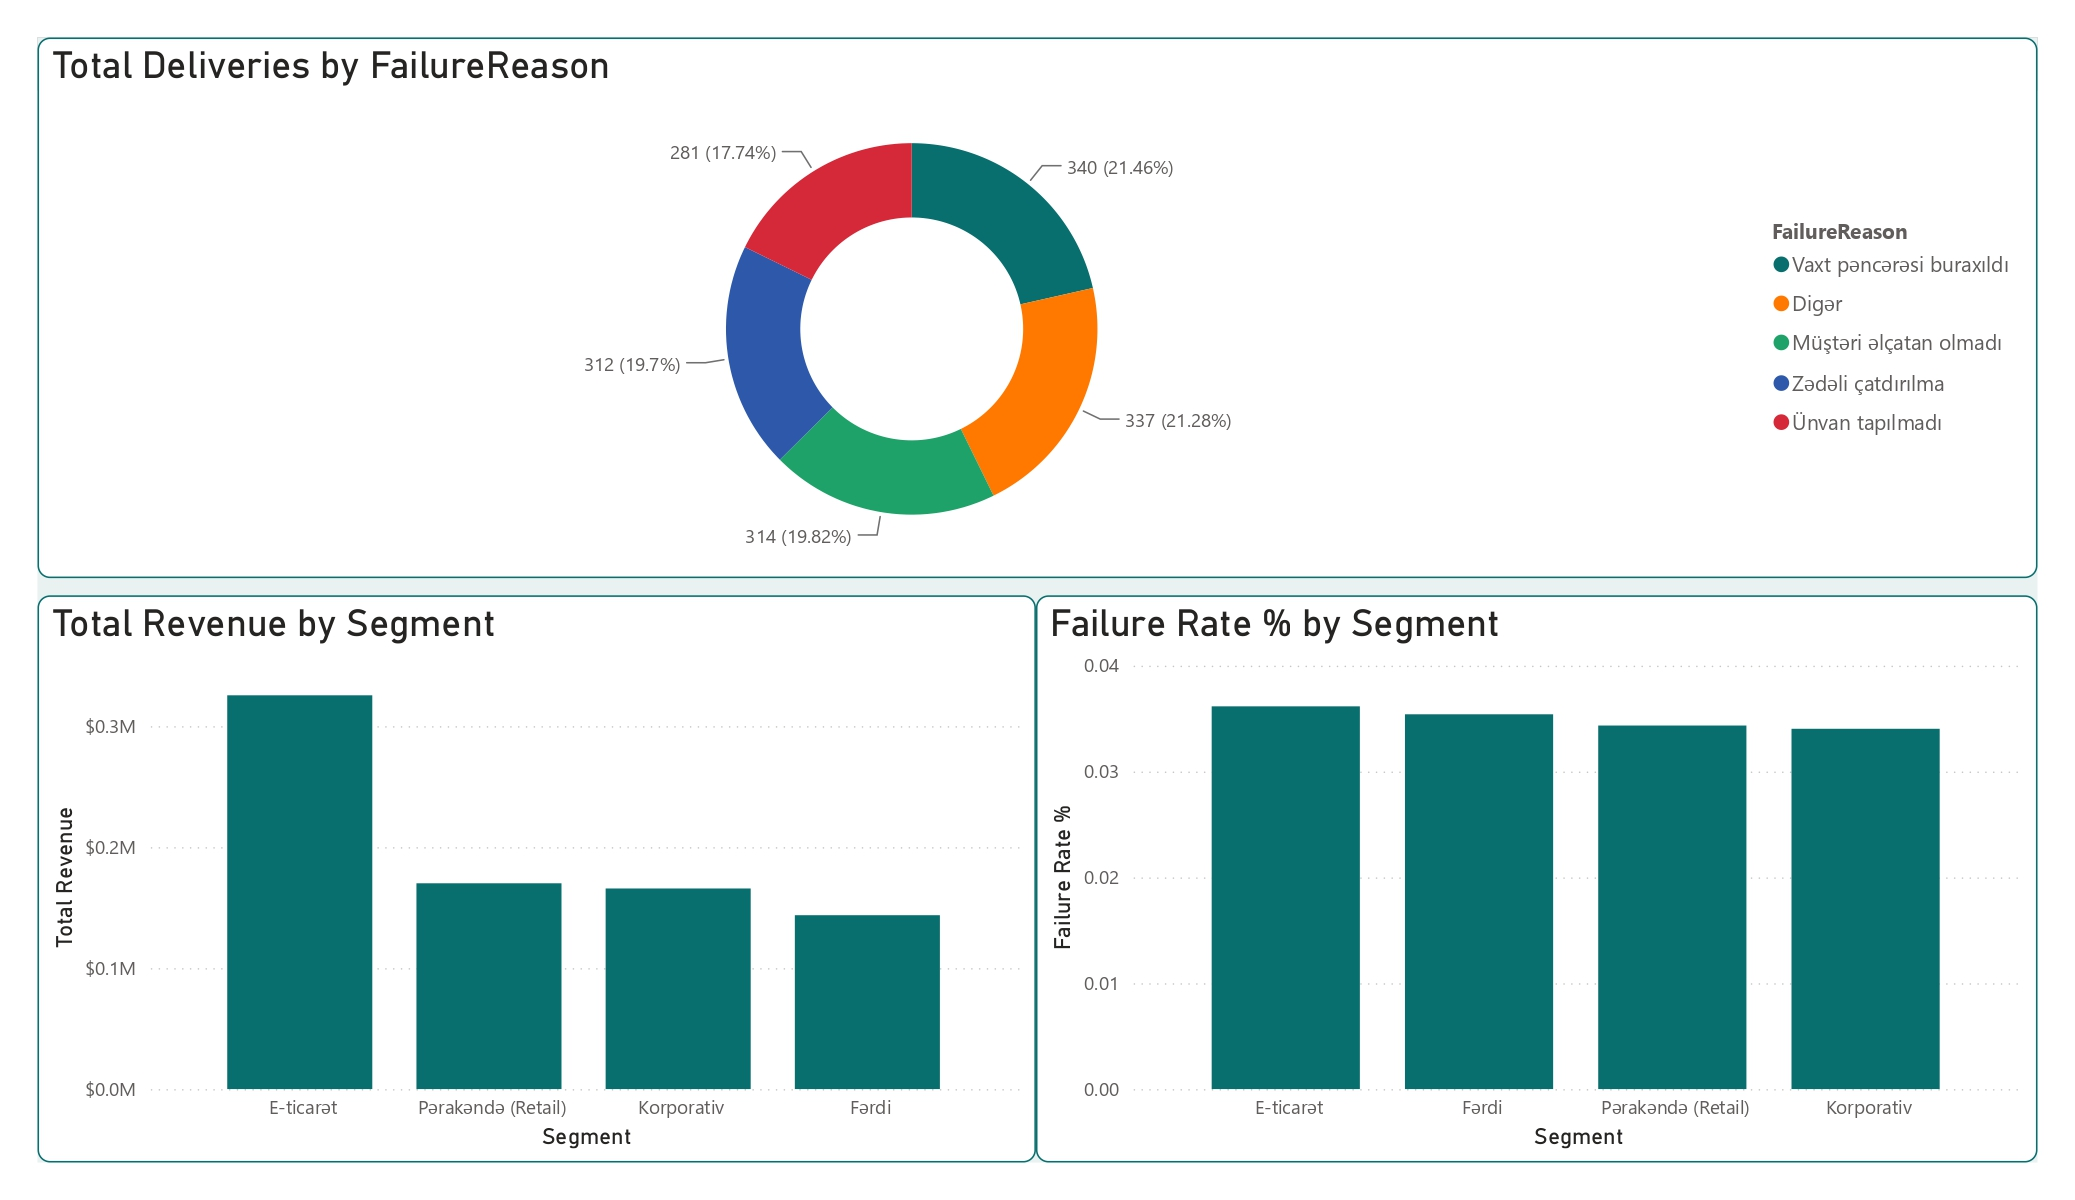

Layout of this report page (visuals, bound fields, positions):
{"tool":"powerbi","page":{"name":" Customer & SLA Insights","canvas":[1280,720],"ordinal":3},"visuals":[{"type":"columnChart","fields":{"Category":["dim_customer.Segment"],"Y":["_Measures.Total Revenue"]},"box":[0,357.1,639.4,362.9],"z":0},{"type":"columnChart","fields":{"Category":["dim_customer.Segment"],"Y":["_Measures.Failure Rate %"]},"box":[639.4,357.1,640.8,362.9],"z":1000},{"type":"donutChart","fields":{"Category":["fact_deliveries.FailureReason"],"Y":["_Measures.Total Deliveries"]},"box":[0,0,1280,346],"z":2000}]}

Visuals, with their boxes on the page's 1280x720 design canvas (x1, y1, x2, y2). These are canvas units, not pixel positions in the 2075x1200 screenshot, which may show the page scaled, cropped or inside an application window:
columnChart - dim_customer.Segment x _Measures.Total Revenue: (x1=0, y1=357, x2=639, y2=720)
columnChart - dim_customer.Segment x _Measures.Failure Rate %: (x1=639, y1=357, x2=1280, y2=720)
donutChart - fact_deliveries.FailureReason x _Measures.Total Deliveries: (x1=0, y1=0, x2=1280, y2=346)
